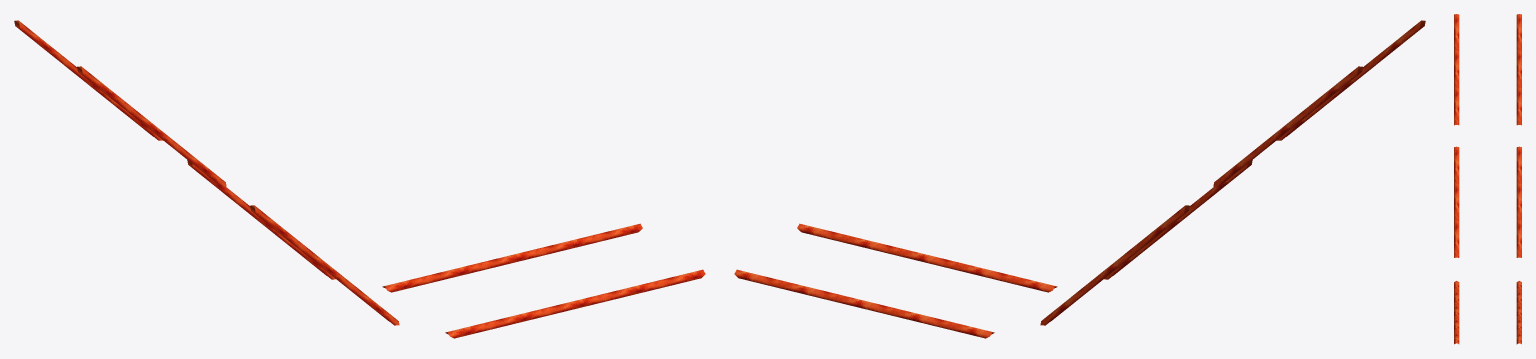
3 renders of one model, left to right at view 1: azimuth 30°, elevation 25°; view 2: azimuth 150°, elevation 25°; view 3: azimuth 270°, elevation 25°, orthographic. The views are drawn at different scales.
Parts seen in each view (by area): view 1: S04_ON_25; view 2: S04_ON_25; view 3: S04_ON_25.
Boxes of the visible parts, x1,y1,x2,y2 form: S04_ON_25: [14, 20, 705, 338]; S04_ON_25: [734, 20, 1425, 338]; S04_ON_25: [1454, 14, 1521, 344].
Bounding box in the file's own units: 63090 × 34871 × 11900.
